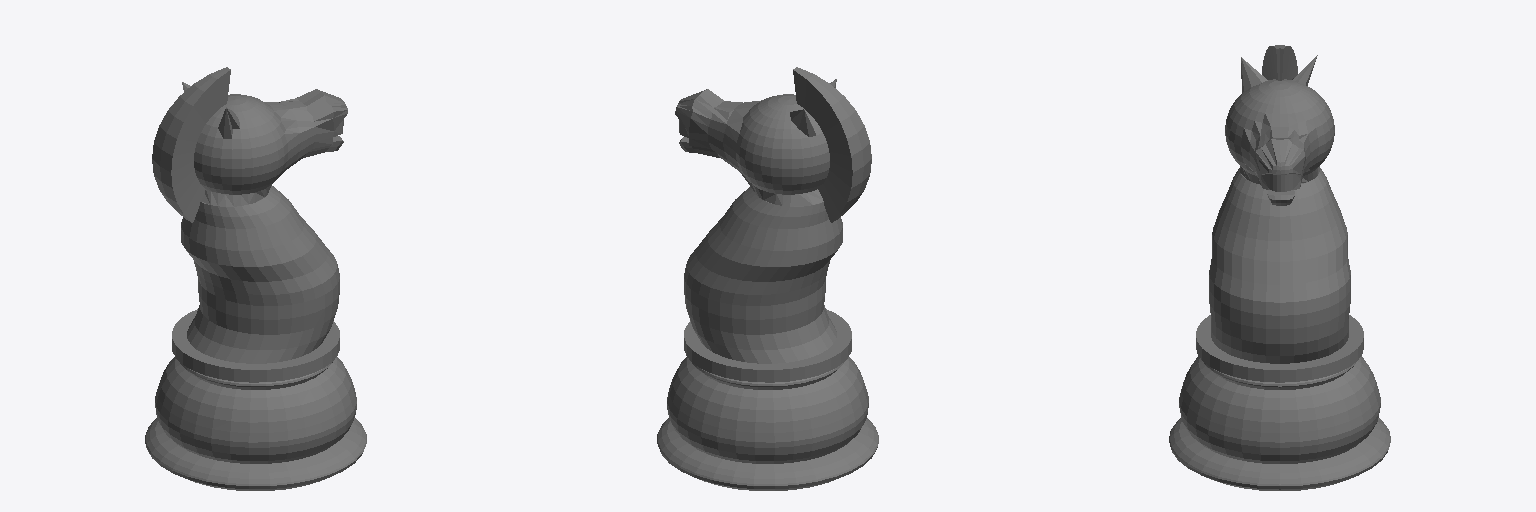
File: horse.obj
3 renders of one model, left to right at view 1: azimuth 30°, elevation 25°; view 2: azimuth 150°, elevation 25°; view 3: azimuth 270°, elevation 25°, orthographic.
Parts seen in each view (by area): view 1: koń_1_Circle.008; view 2: koń_1_Circle.008; view 3: koń_1_Circle.008.
Boxes of the visible parts, <box> form: koń_1_Circle.008: <box>145,67,366,490</box>; koń_1_Circle.008: <box>657,67,878,490</box>; koń_1_Circle.008: <box>1169,45,1390,490</box>.
Bounding box in the file's own units: 0.0865 × 0.1666 × 0.0865.